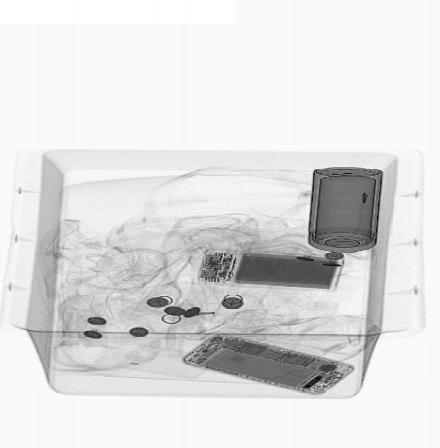Powerbank: (196, 250, 348, 290)
